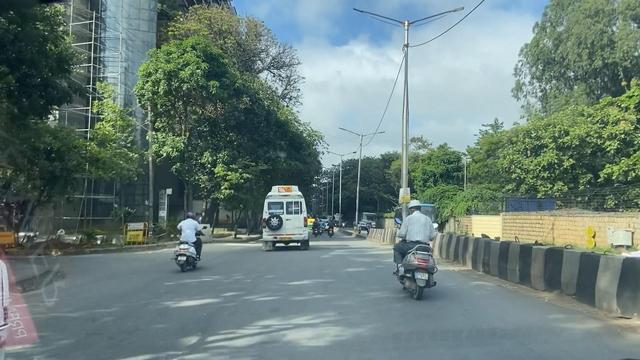HMV: (272, 166, 314, 257)
LMV: (384, 199, 446, 300), (168, 207, 208, 281)
